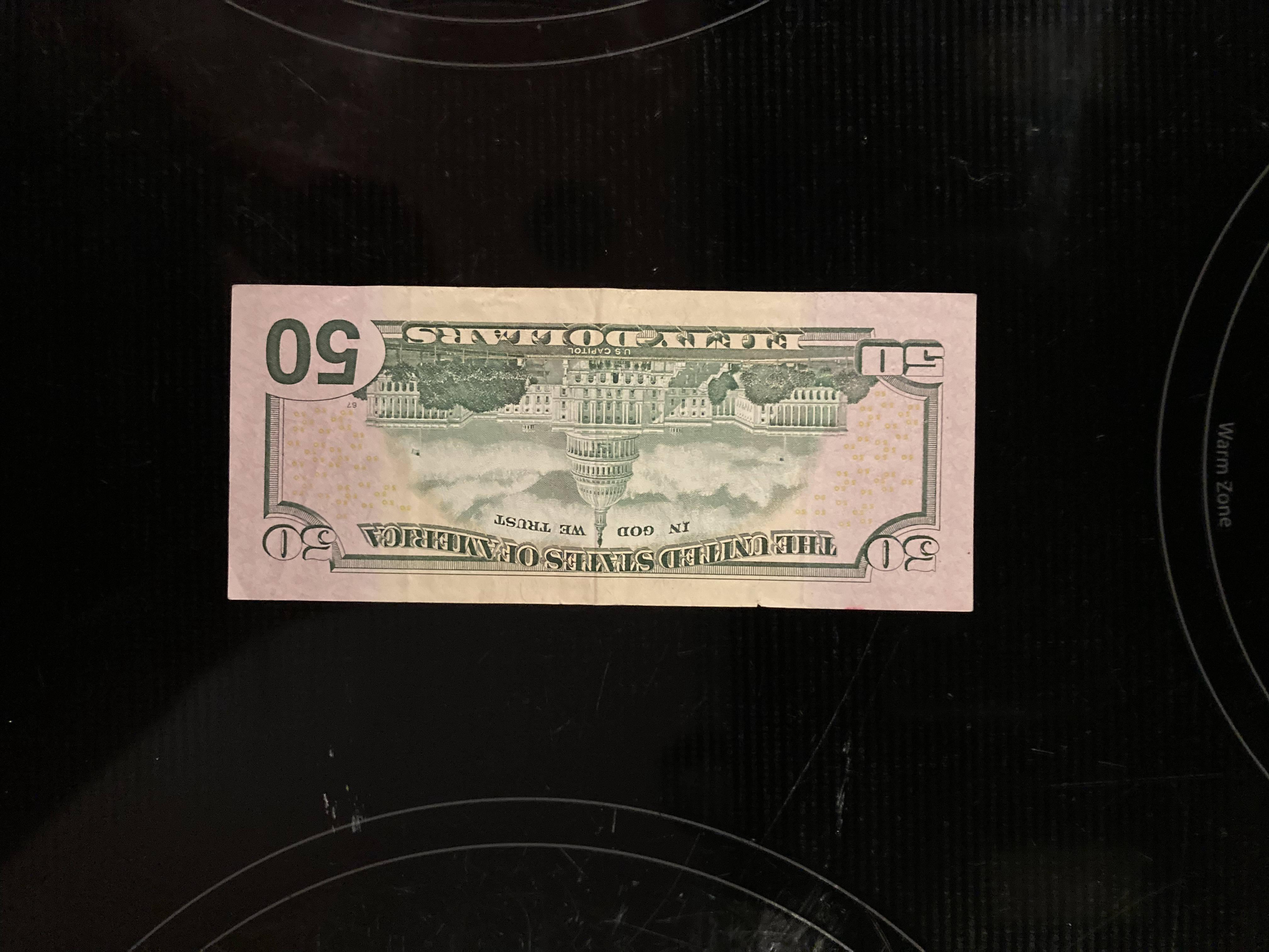fifty-back: (226, 284, 978, 612)
